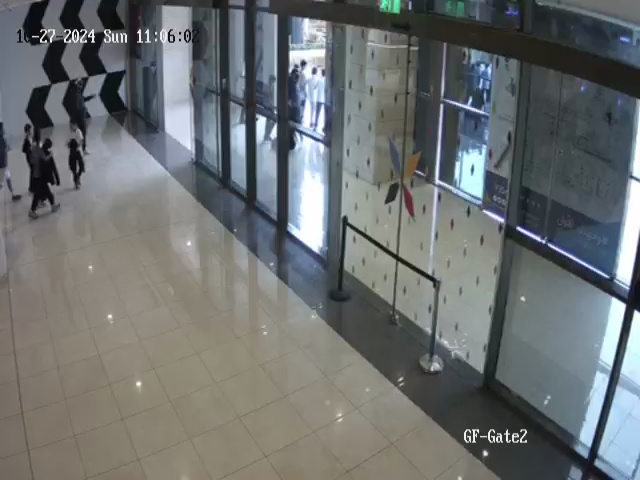male: (29, 132, 62, 213), (0, 123, 22, 201), (66, 117, 85, 190), (290, 58, 304, 127), (22, 118, 36, 173), (320, 67, 330, 128), (308, 66, 316, 127)
